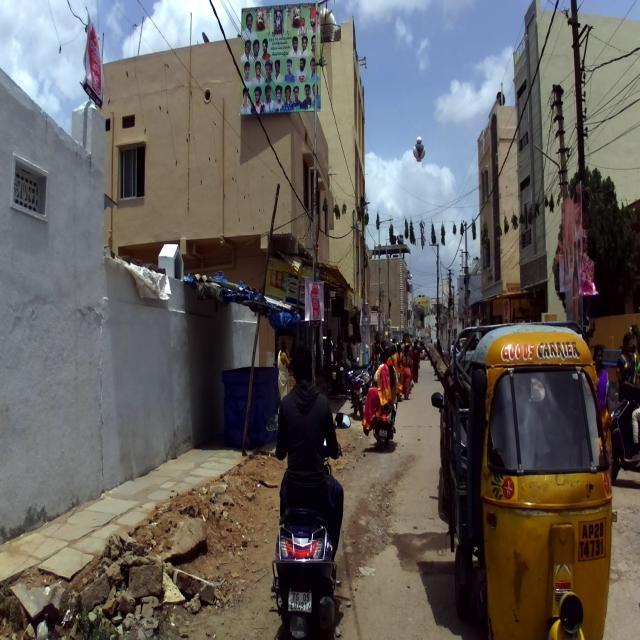pothole: (348, 501, 426, 606)
